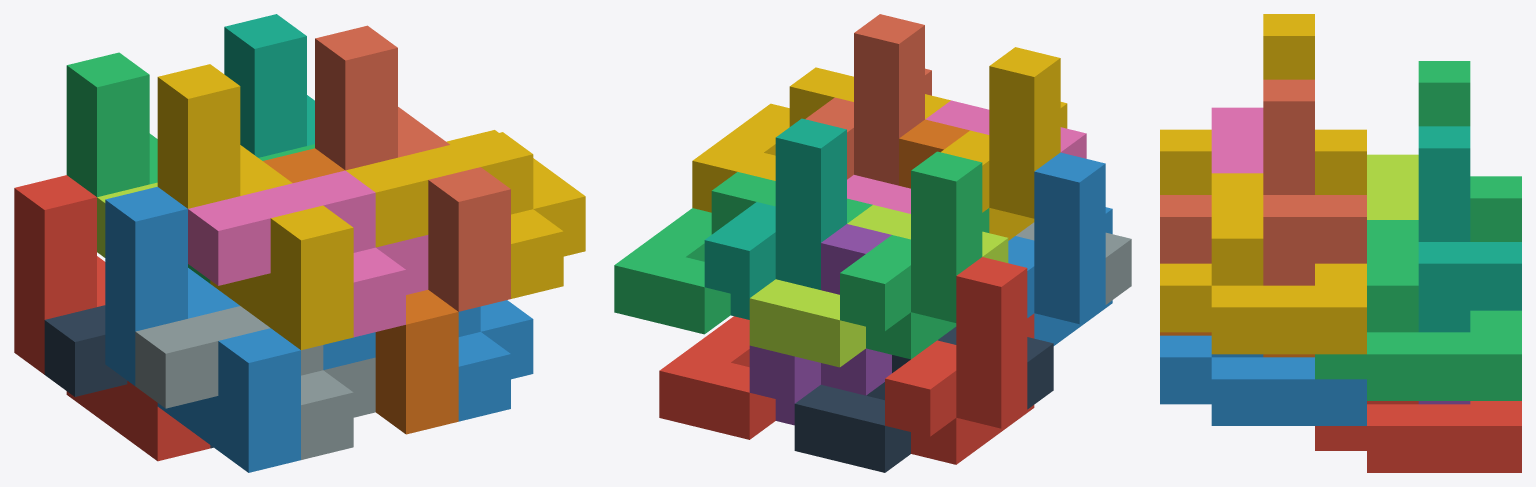
Rendered from tiling.obj.
The picture shows the model from 3 angles, left to right: view 1: azimuth 30°, elevation 25°; view 2: azimuth 150°, elevation 25°; view 3: azimuth 270°, elevation 25°; orthographic projection. The views are drawn at different scales.
Visible parts, largest first — view 1: copy_1_domain_2, copy_1_domain_4, copy_1_domain_8, copy_1_domain_1, copy_2_domain_4, copy_2_domain_8, copy_2_domain_2, copy_1_domain_6, copy_1_domain_3, copy_1_domain_7, copy_2_domain_6, copy_2_domain_1 (+1 smaller); view 2: copy_1_domain_1, copy_1_domain_3, copy_1_domain_7, copy_1_domain_2, copy_1_domain_4, copy_2_domain_7, copy_1_domain_8, copy_2_domain_1, copy_2_domain_3, copy_2_domain_5, copy_1_domain_5, copy_2_domain_8 (+3 smaller); view 3: copy_2_domain_8, copy_2_domain_7, copy_1_domain_8, copy_1_domain_7, copy_2_domain_6, copy_2_domain_5, copy_1_domain_4, copy_1_domain_3, copy_2_domain_4, copy_2_domain_3, copy_1_domain_6.
Part boxes in pixels (<box>): copy_1_domain_2: <box>105,186,300,472</box>; copy_1_domain_4: <box>157,64,353,350</box>; copy_1_domain_8: <box>315,25,510,311</box>; copy_1_domain_1: <box>14,175,210,461</box>; copy_2_domain_4: <box>188,170,428,337</box>; copy_2_domain_8: <box>345,130,585,298</box>; copy_2_domain_2: <box>135,306,375,459</box>; copy_1_domain_6: <box>263,148,458,434</box>; copy_1_domain_3: <box>66,52,210,283</box>; copy_1_domain_7: <box>224,14,314,157</box>; copy_2_domain_6: <box>323,300,533,421</box>; copy_2_domain_1: <box>44,305,213,448</box>; copy_1_domain_1: <box>885,257,1034,464</box>; copy_1_domain_3: <box>840,151,989,359</box>; copy_1_domain_7: <box>704,118,846,319</box>; copy_1_domain_2: <box>1008,152,1112,345</box>; copy_1_domain_4: <box>941,47,1067,240</box>; copy_2_domain_7: <box>614,172,872,334</box>; copy_1_domain_8: <box>805,14,931,185</box>; copy_2_domain_1: <box>794,327,1053,472</box>; copy_2_domain_3: <box>749,205,1008,367</box>; copy_2_domain_5: <box>659,316,775,439</box>; copy_1_domain_5: <box>749,224,891,425</box>; copy_2_domain_8: <box>692,67,950,212</box>; copy_2_domain_8: <box>1160,173,1366,354</box>; copy_2_domain_7: <box>1315,220,1521,400</box>; copy_1_domain_8: <box>1160,79,1366,285</box>; copy_1_domain_7: <box>1418,126,1521,332</box>; copy_2_domain_6: <box>1160,335,1366,425</box>; copy_2_domain_5: <box>1315,401,1521,472</box>; copy_1_domain_4: <box>1160,14,1366,194</box>; copy_1_domain_3: <box>1418,61,1521,241</box>; copy_2_domain_4: <box>1211,107,1263,173</box>; copy_2_domain_3: <box>1367,154,1418,219</box>; copy_1_domain_6: <box>1160,332,1314,357</box>.
Size of the model in its own units: 8 by 7 by 7.
